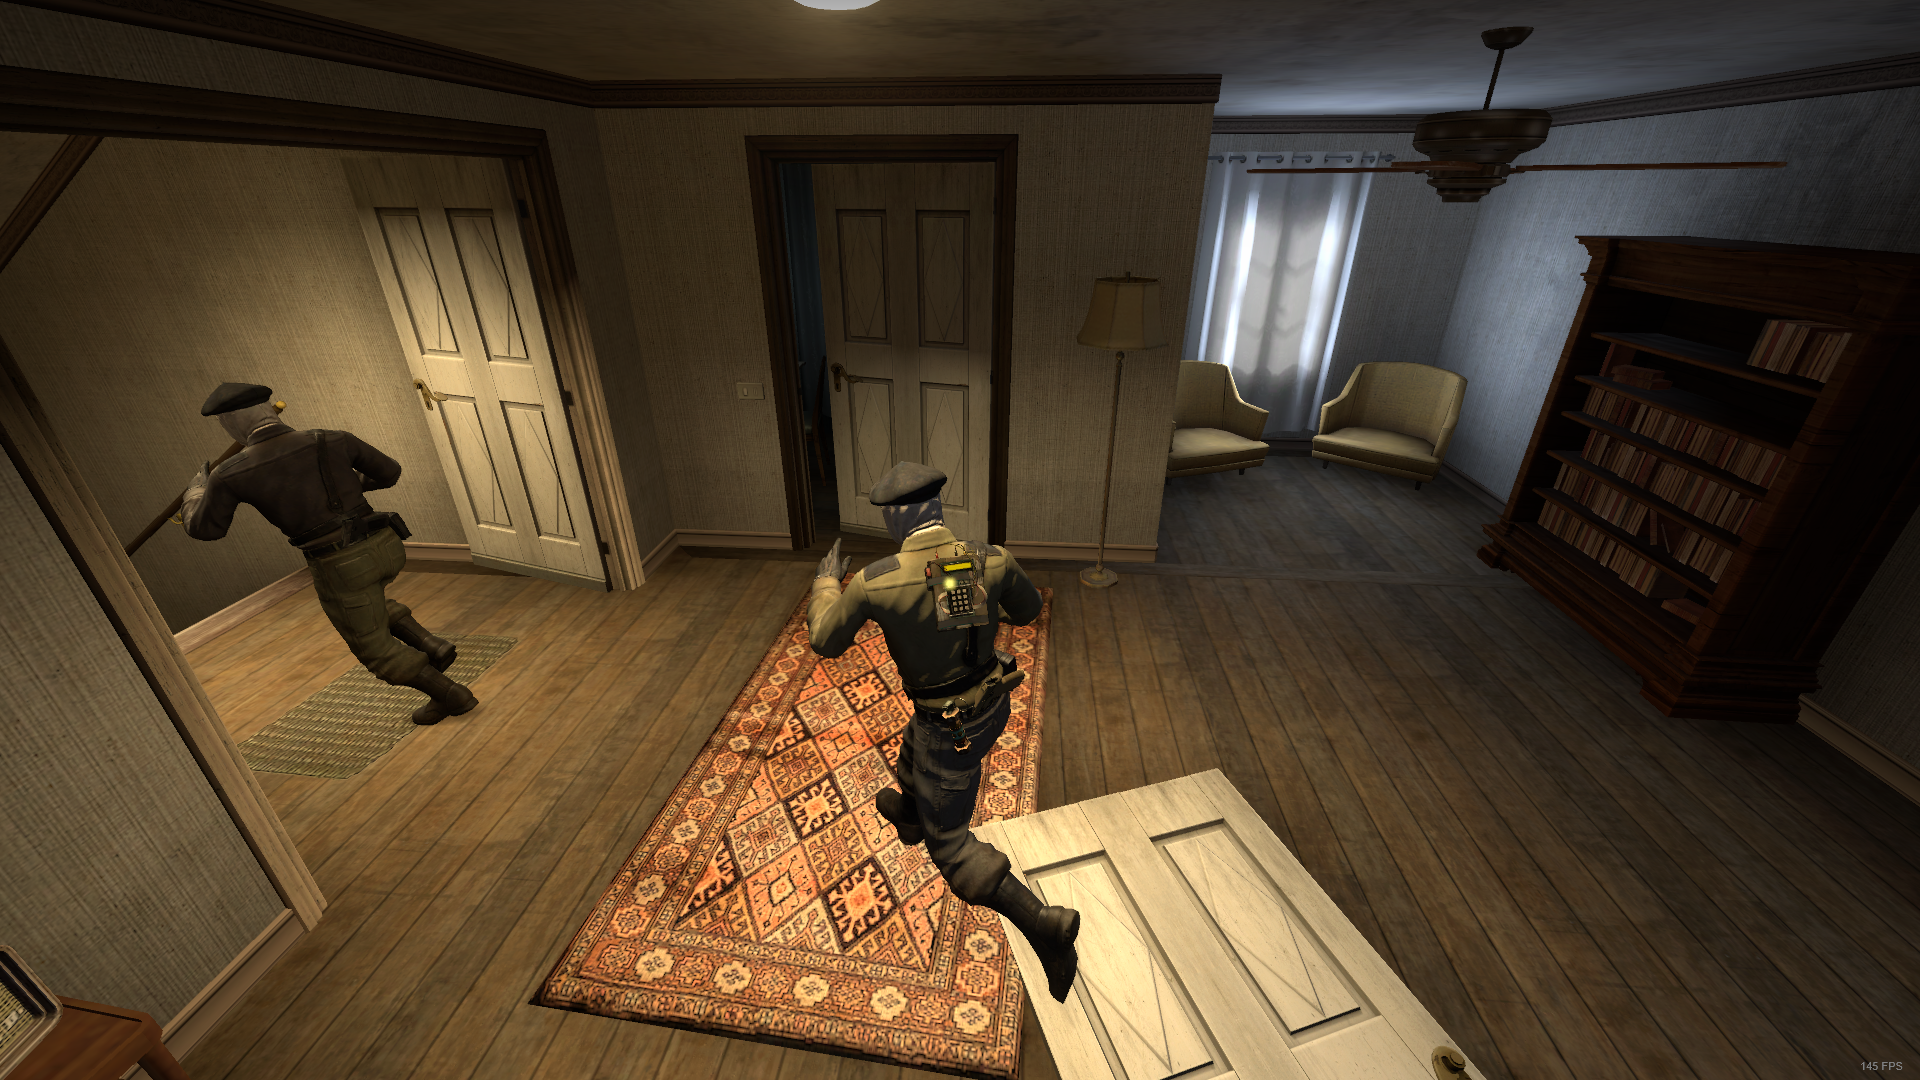t: (808, 460, 1079, 1004), (179, 382, 477, 727)
